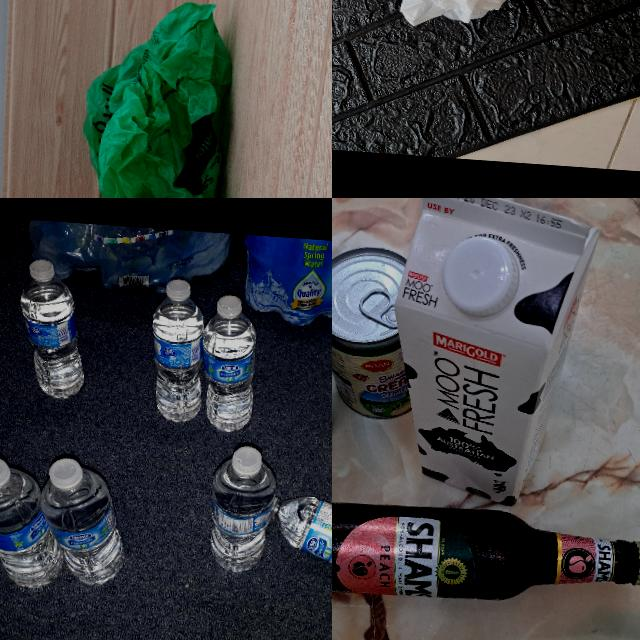aba de lata: (356, 286, 400, 328)
caixinha: (378, 198, 604, 511)
garrafa de vidro: (332, 496, 640, 614)
garrafa plástica: (34, 464, 132, 587), (13, 274, 93, 402), (206, 454, 280, 574), (0, 464, 67, 591), (143, 296, 206, 425), (198, 310, 260, 435), (269, 490, 332, 602)
lata: (332, 242, 422, 419)
sacola plástica: (71, 0, 246, 198)
tampa plástica: (439, 234, 522, 320), (45, 453, 88, 496), (228, 442, 266, 483), (212, 291, 245, 323), (27, 256, 56, 286), (166, 276, 193, 305), (0, 450, 15, 495)
